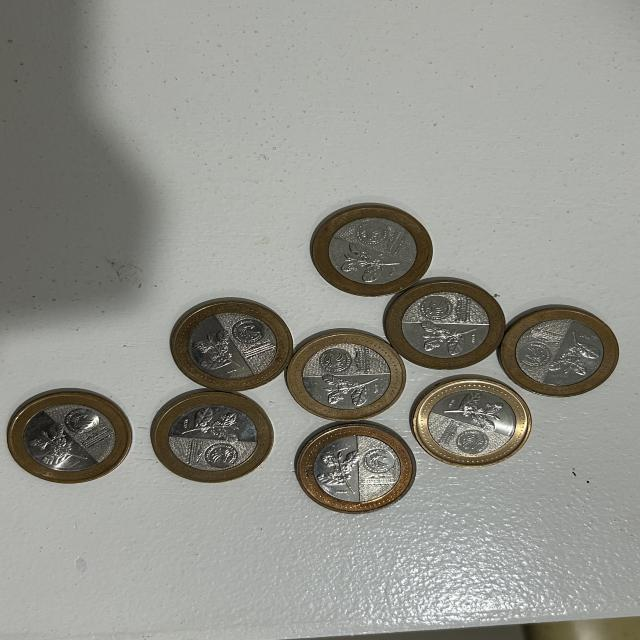20_New_Back: (28, 422, 88, 467), (548, 330, 600, 381), (338, 243, 405, 280), (443, 391, 504, 431), (190, 328, 240, 374), (180, 407, 243, 442), (419, 321, 485, 354), (319, 373, 383, 407), (314, 448, 358, 495)
